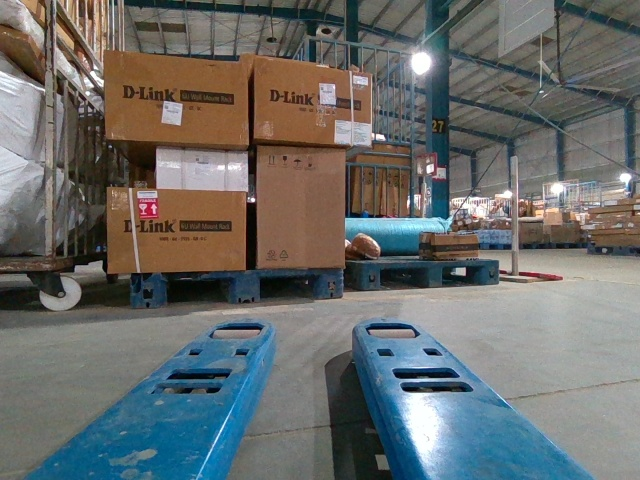block: (129, 271, 170, 308), (227, 272, 260, 304), (313, 269, 344, 302), (356, 262, 382, 289), (479, 260, 501, 284), (424, 261, 445, 286)
front: (131, 266, 343, 308), (358, 260, 499, 290)
hole pallet: (168, 279, 229, 307), (260, 277, 314, 302), (382, 268, 426, 286), (445, 267, 479, 284)
